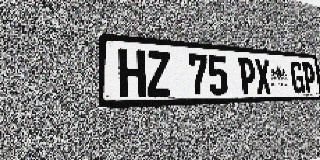5: (208, 55, 229, 95)
7: (187, 53, 210, 96)
G: (290, 61, 305, 93)
H: (118, 48, 146, 98)
P: (238, 57, 257, 95), (302, 62, 316, 93)
X: (254, 58, 272, 94)
Z: (146, 50, 172, 97)
